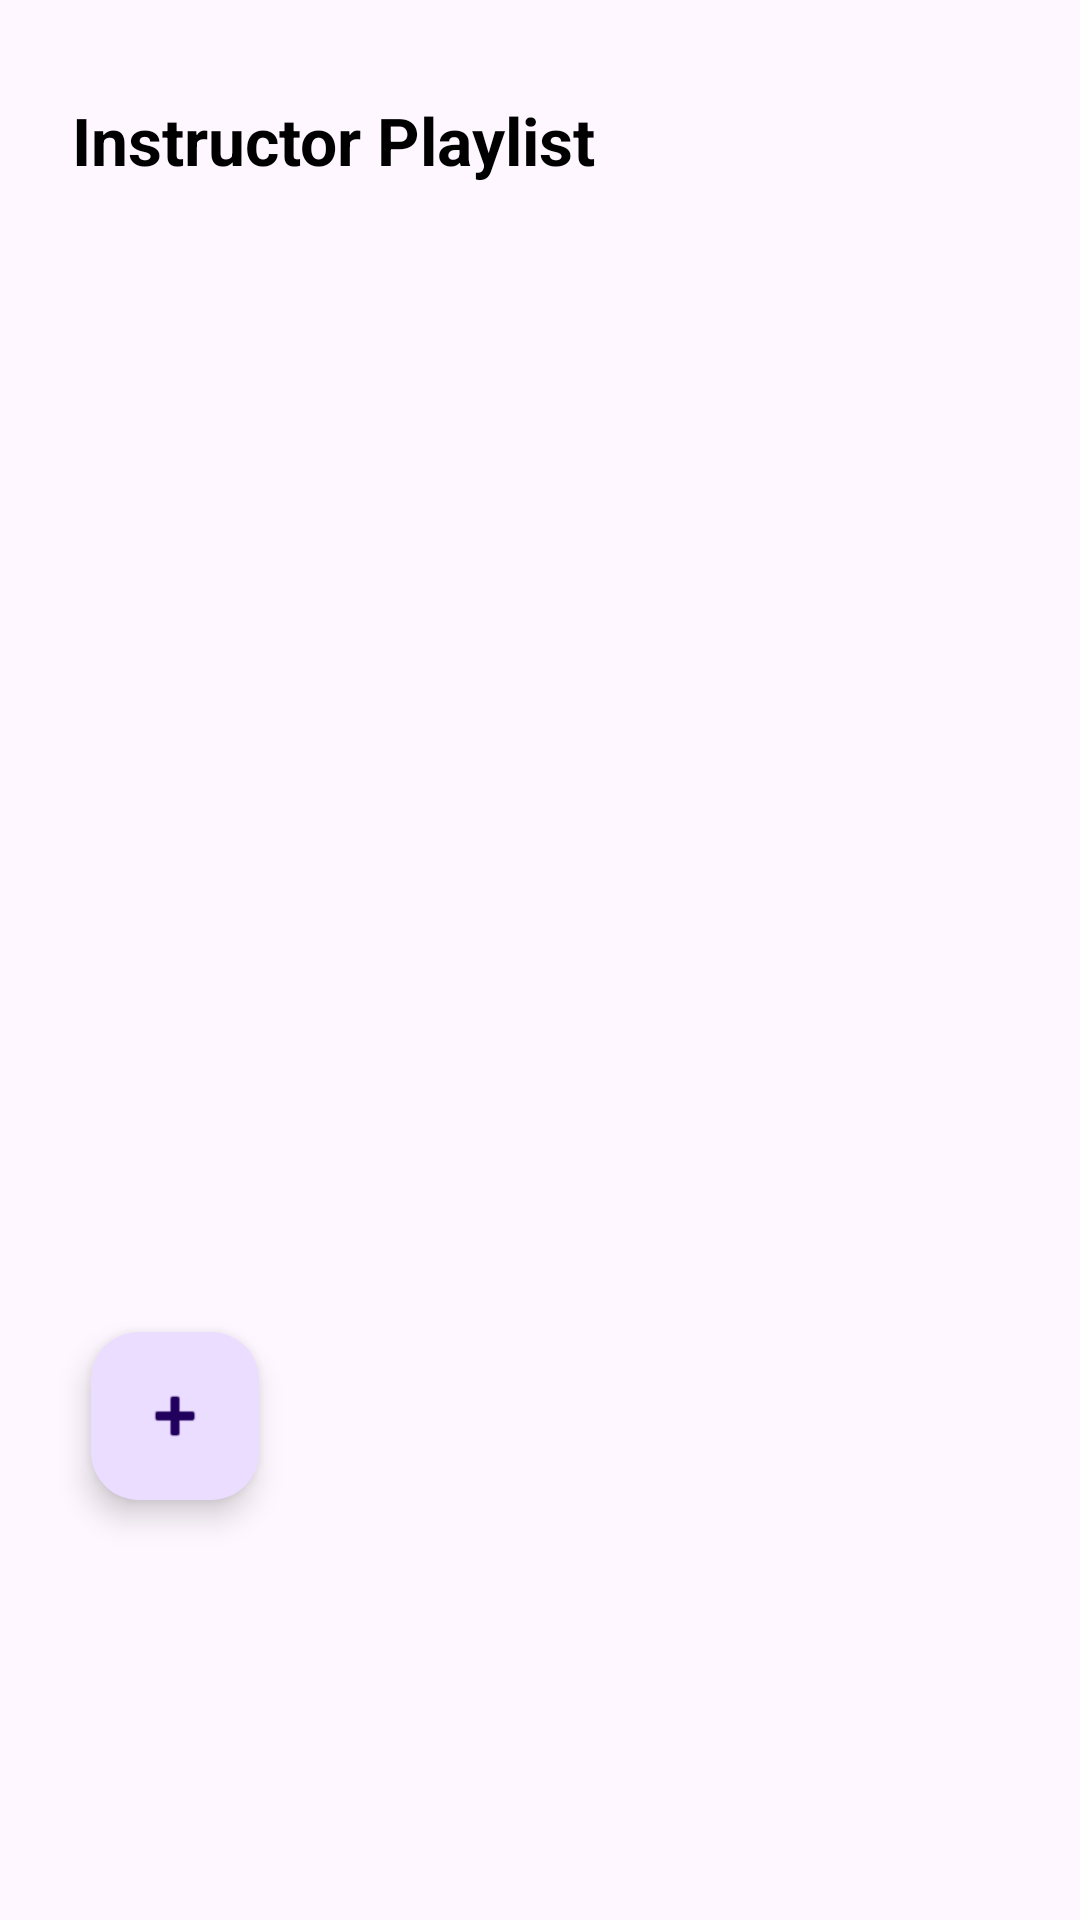

Icon bounding boxes for this 1080px x 1920px phone screenshot, format (x1, y1, x2, y2):
add: (91, 1332, 259, 1500)
